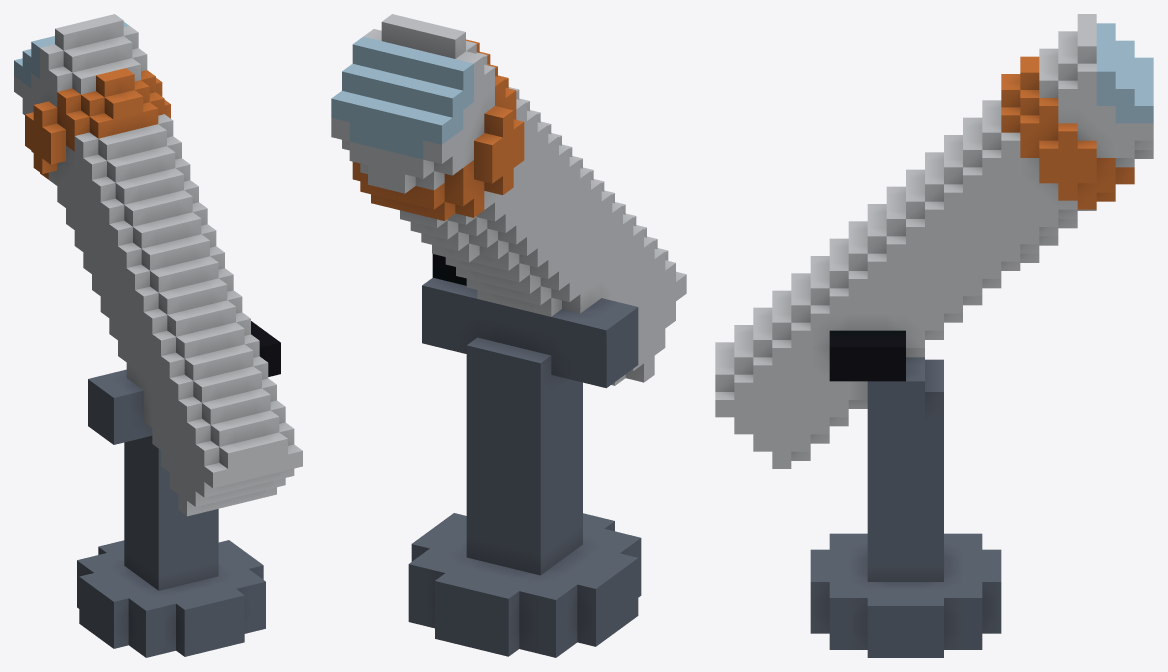
The model's file is telescope.glb.
3 renders of one model, left to right at view 1: azimuth 30°, elevation 25°; view 2: azimuth 150°, elevation 25°; view 3: azimuth 270°, elevation 25°, orthographic. The views are drawn at different scales.
Visible parts, largest first — view 1: Base; view 2: Base; view 3: Base.
Part boxes in pixels (bbox=[...]): Base: bbox=[14, 14, 302, 657]; Base: bbox=[331, 14, 686, 657]; Base: bbox=[715, 14, 1153, 657].
Size of the model in its own units: 1 by 3.4 by 2.3.
